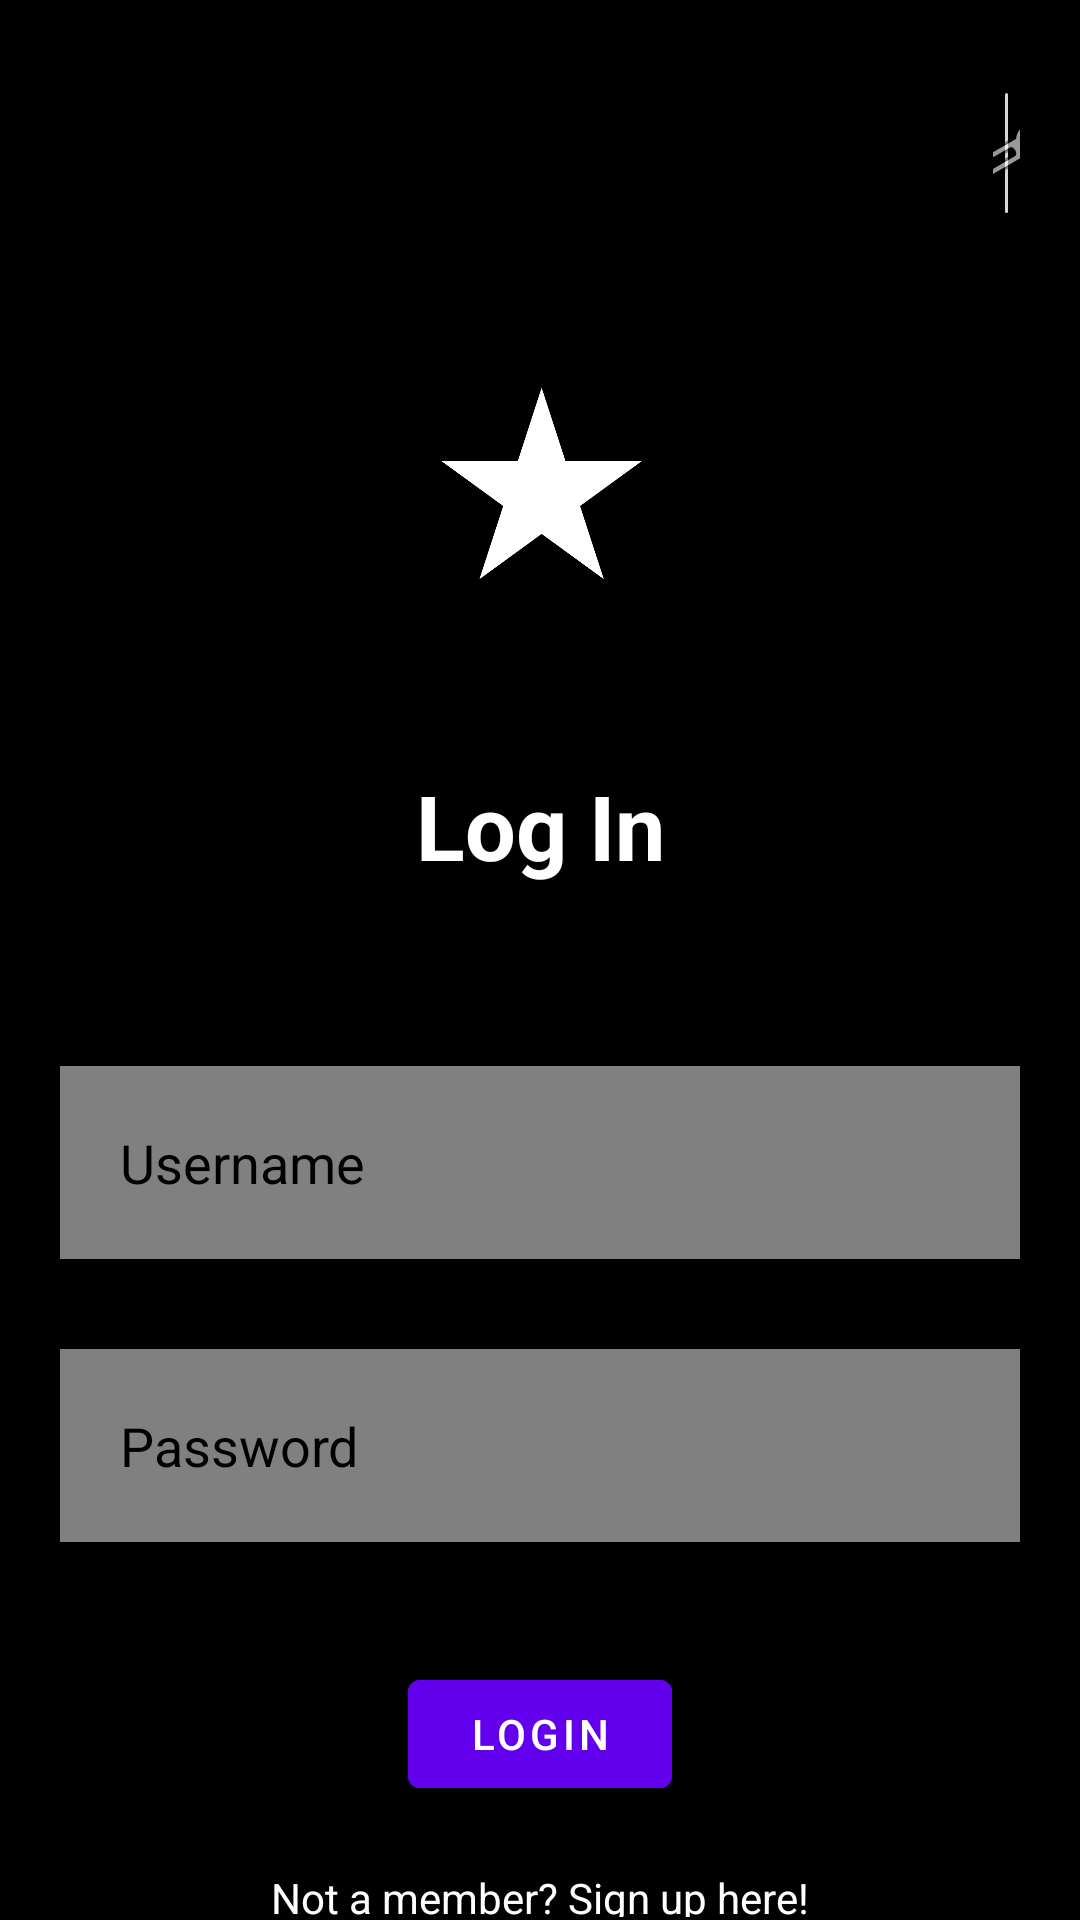

Icons on this 1080x1920 Android screen, each with the point to tap as (x,y):
whitestar: (542,483)
